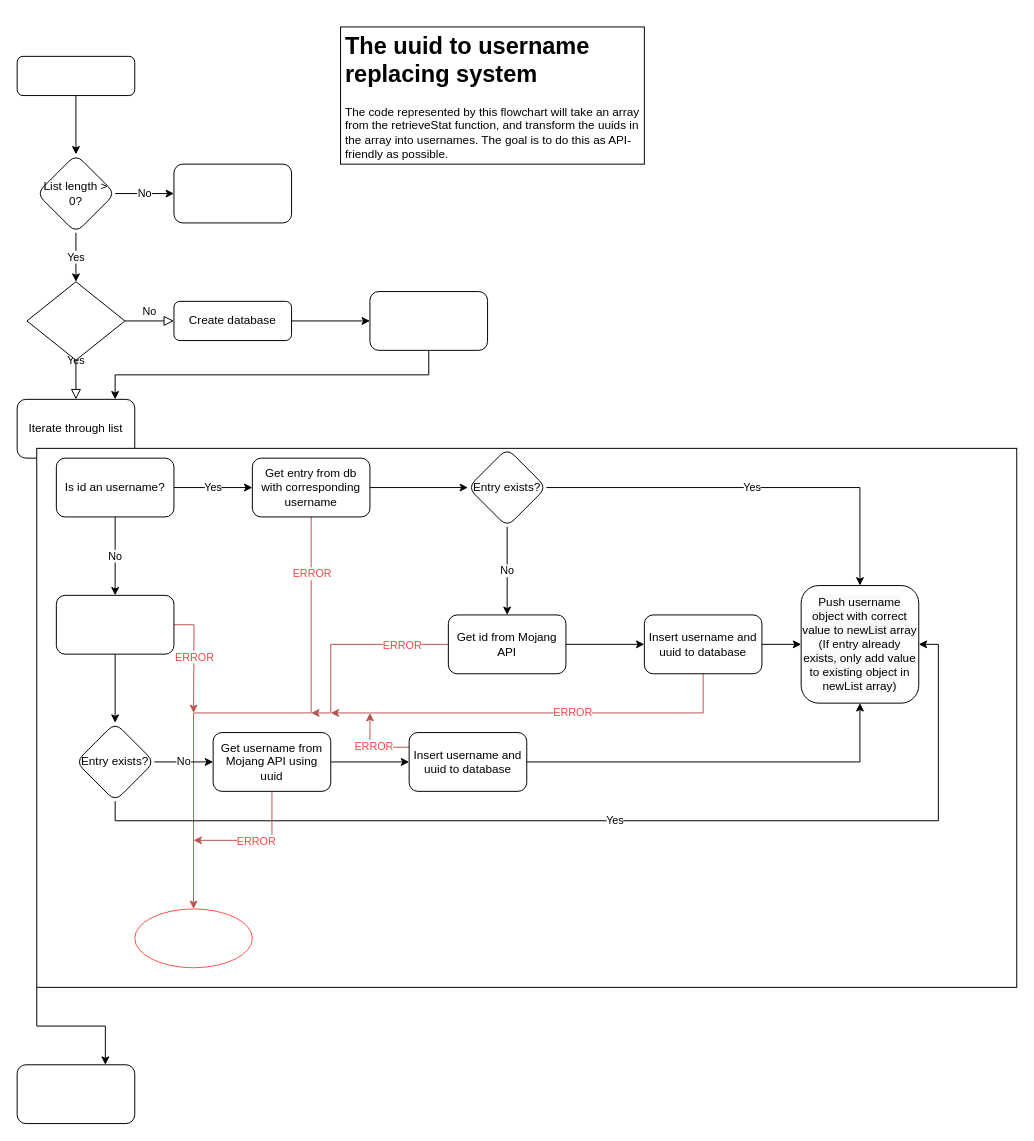
Image size: 1034x1141. Some labels were removed from this diagram. Each missing label, with the centre of its shape:
"Database exists?" goes at (x=75, y=320).
"Get database" goes at (x=75, y=75).
"Get entry from database with corresponding uuid" goes at (x=114, y=624).
"Insert username column and UUID column" goes at (x=428, y=320).
"Reject with error" goes at (x=232, y=193).
"Return newList array" goes at (x=75, y=1094).
"Skip this current loop" goes at (x=193, y=938).
